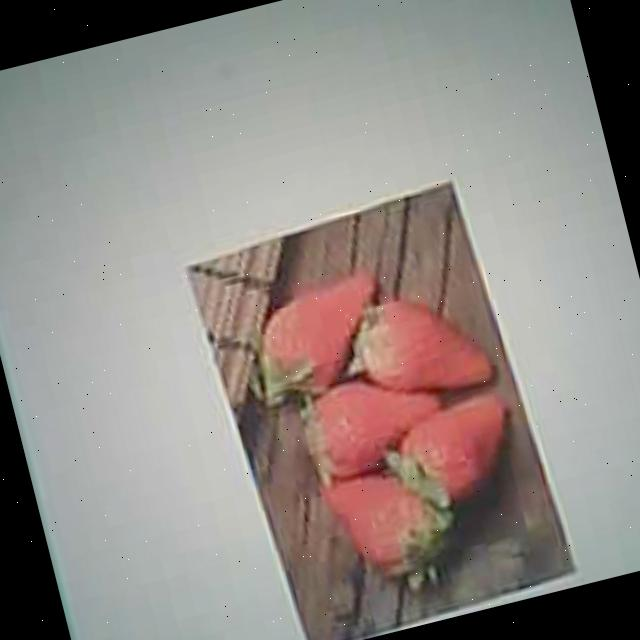strawberry: (249, 272, 394, 402), (348, 286, 487, 408), (314, 459, 439, 594), (297, 370, 443, 480), (397, 394, 518, 504)
